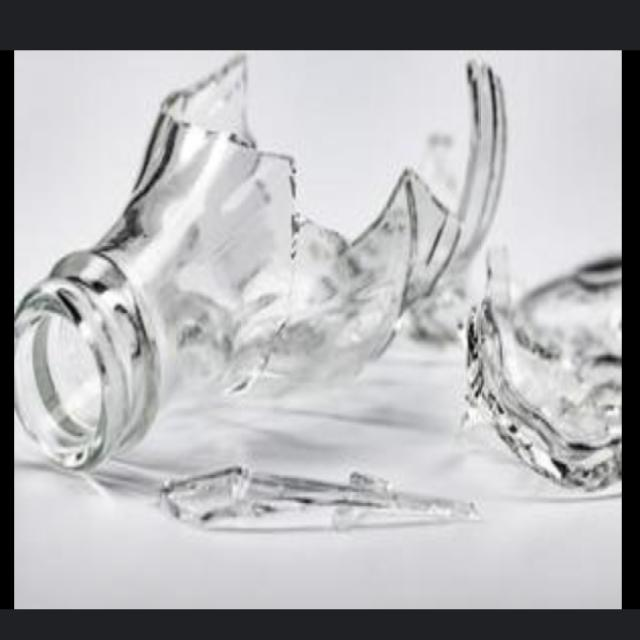PecahanKaca: (15, 51, 508, 474), (461, 246, 622, 495)
